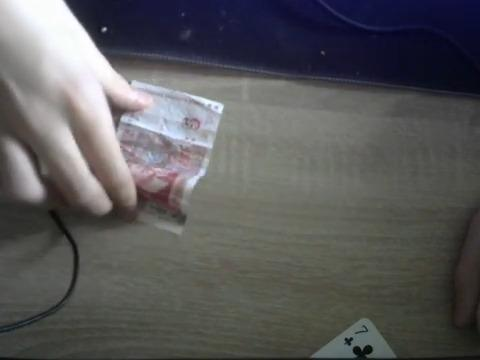5leva: (116, 82, 224, 227)
